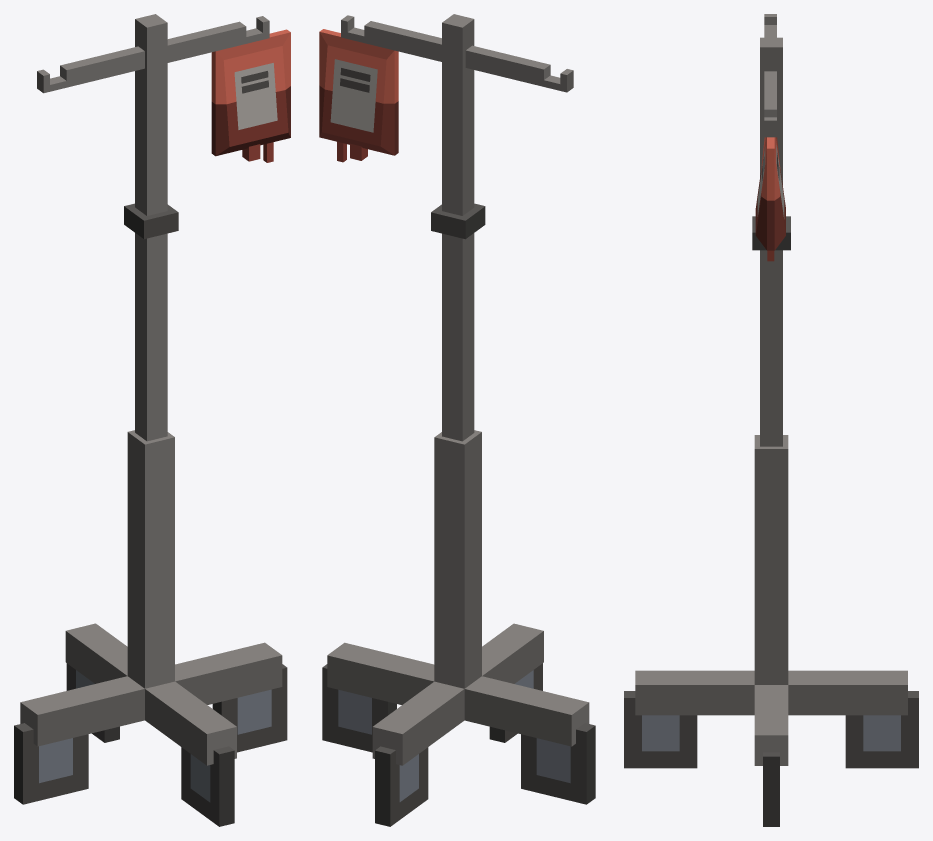
The model's file is AI_Prop_IV_Stand.fbx.
3 renders of one model, left to right at view 1: azimuth 30°, elevation 25°; view 2: azimuth 150°, elevation 25°; view 3: azimuth 270°, elevation 25°, orthographic. The views are drawn at different scales.
Visible parts, largest first — view 1: AI_Prop_IV_Stand; view 2: AI_Prop_IV_Stand; view 3: AI_Prop_IV_Stand.
Boxes of the visible parts, <box> form: AI_Prop_IV_Stand: <box>14,14,290,826</box>; AI_Prop_IV_Stand: <box>319,14,595,826</box>; AI_Prop_IV_Stand: <box>624,14,918,826</box>.
Bounding box in the file's own units: 1.19 × 3.16 × 1.17.
